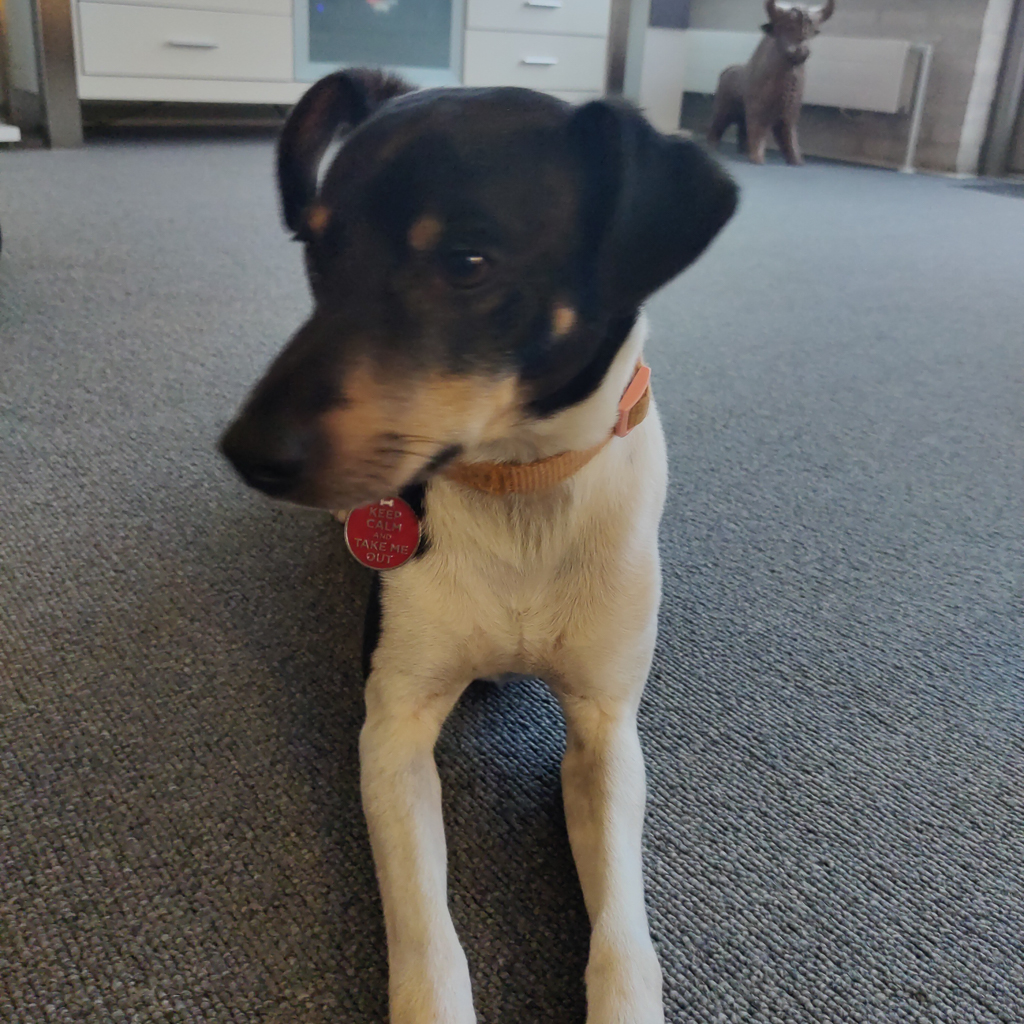Cattle: (693, 0, 840, 172)
Dog: (196, 49, 768, 1024)
